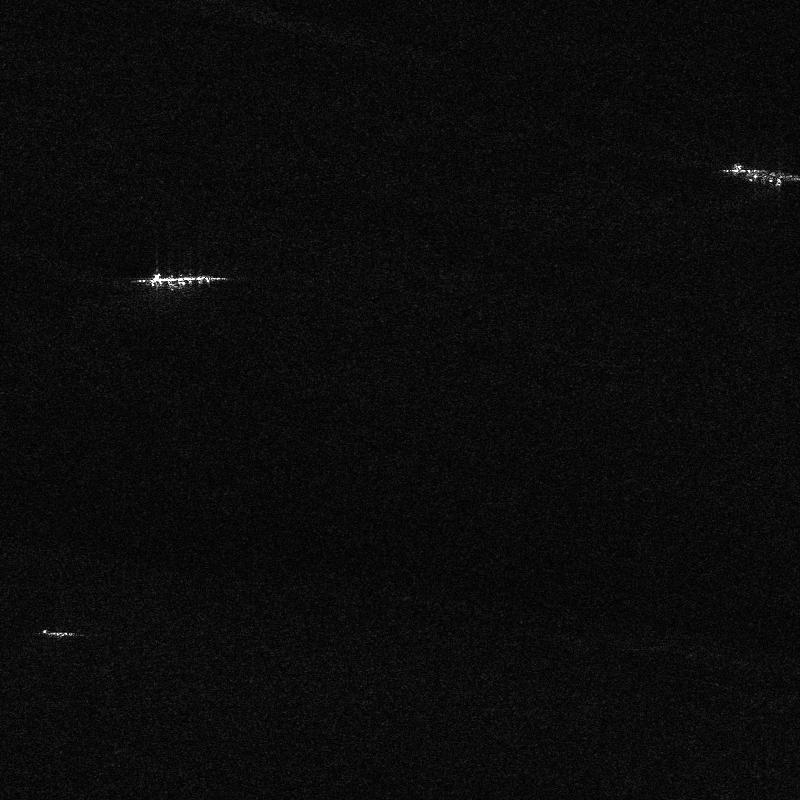ship: (722, 162, 799, 187), (136, 272, 226, 288), (42, 629, 76, 637)
